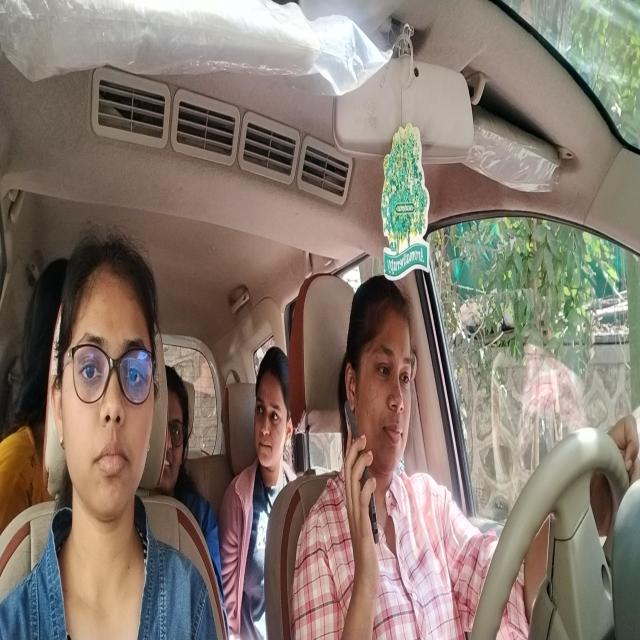mobile: (341, 407, 380, 542)
person: (63, 257, 158, 530), (354, 279, 416, 463), (258, 344, 293, 474), (23, 307, 45, 490), (168, 370, 190, 488)
